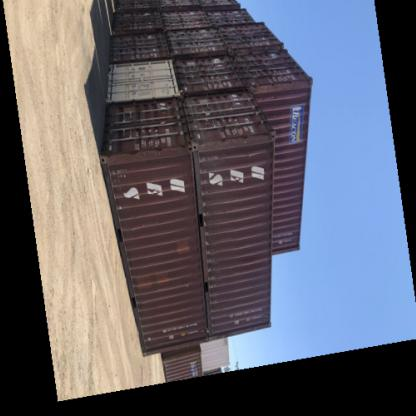Damage: (125, 148, 172, 166)
